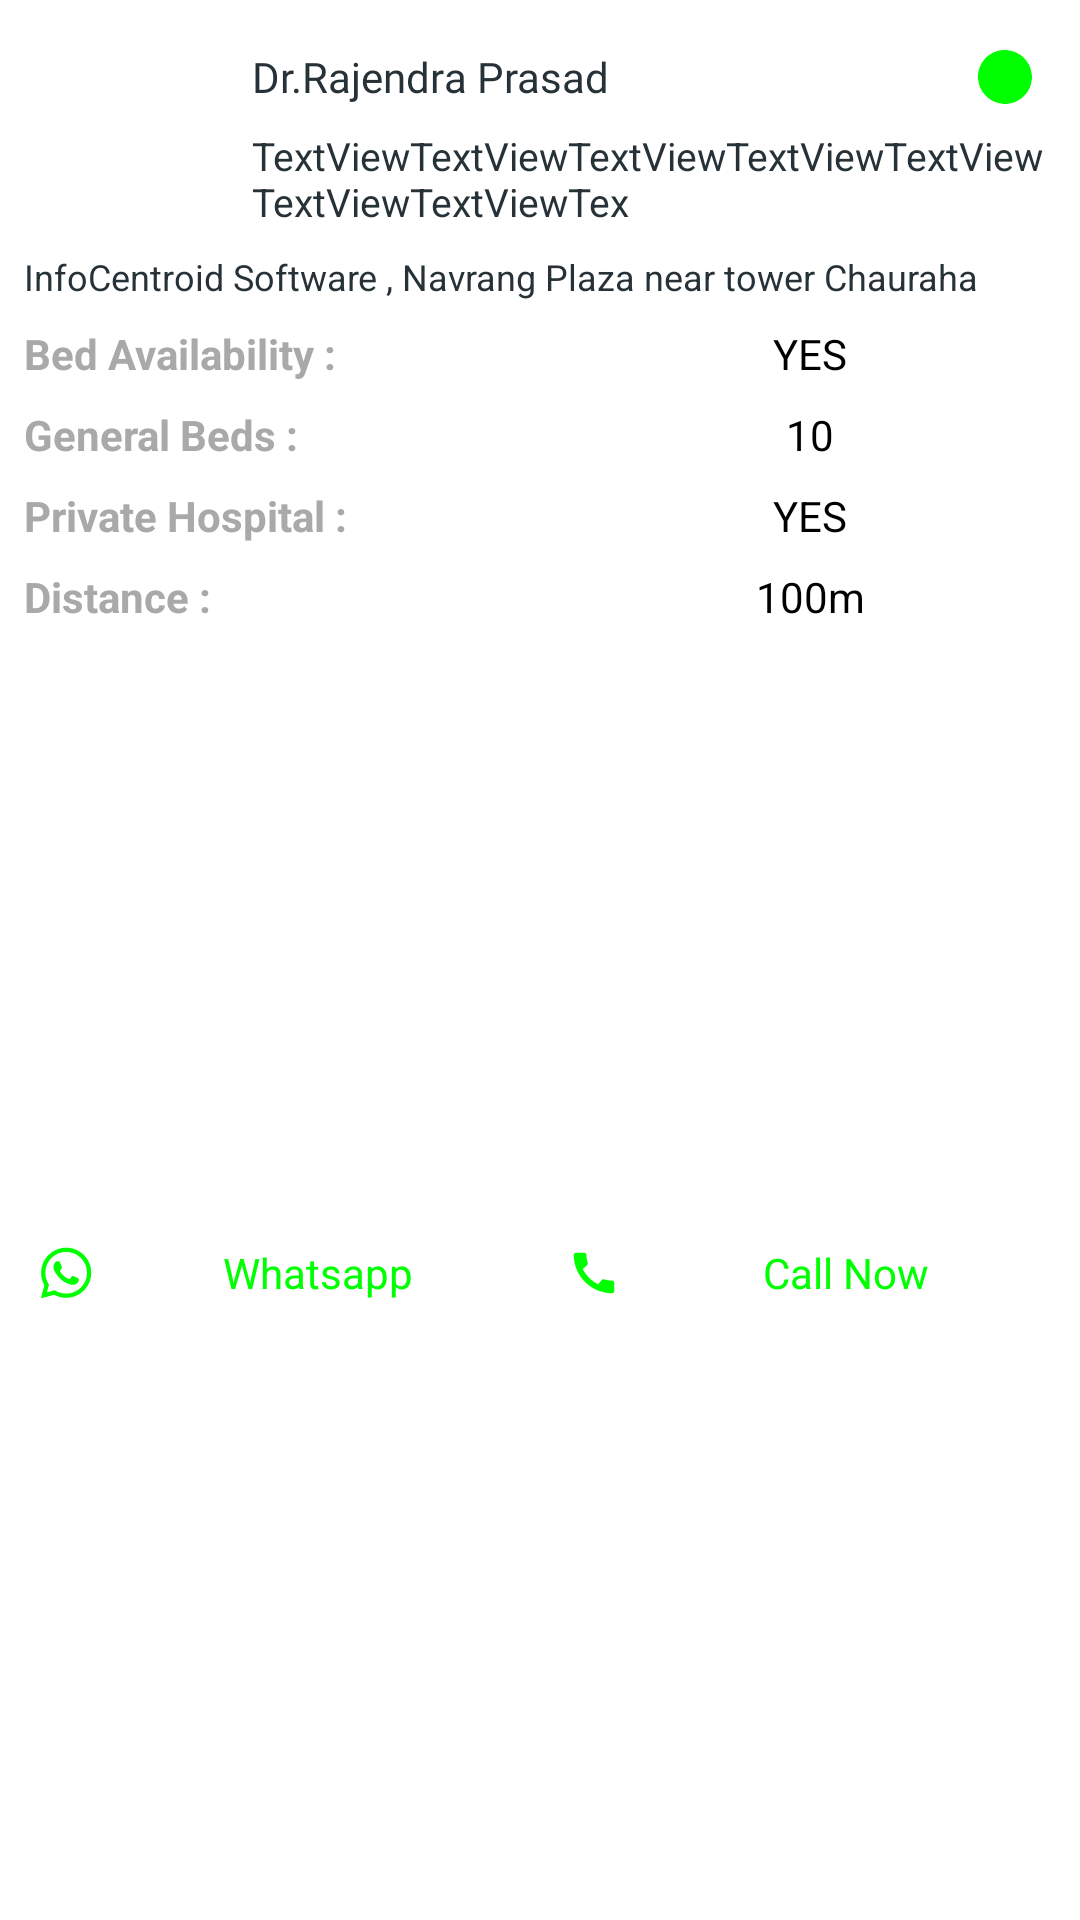

Point at icon controls on the screen. Image size 1080*1920, points as (x=x, y=y).
online: (x=1005, y=77)
